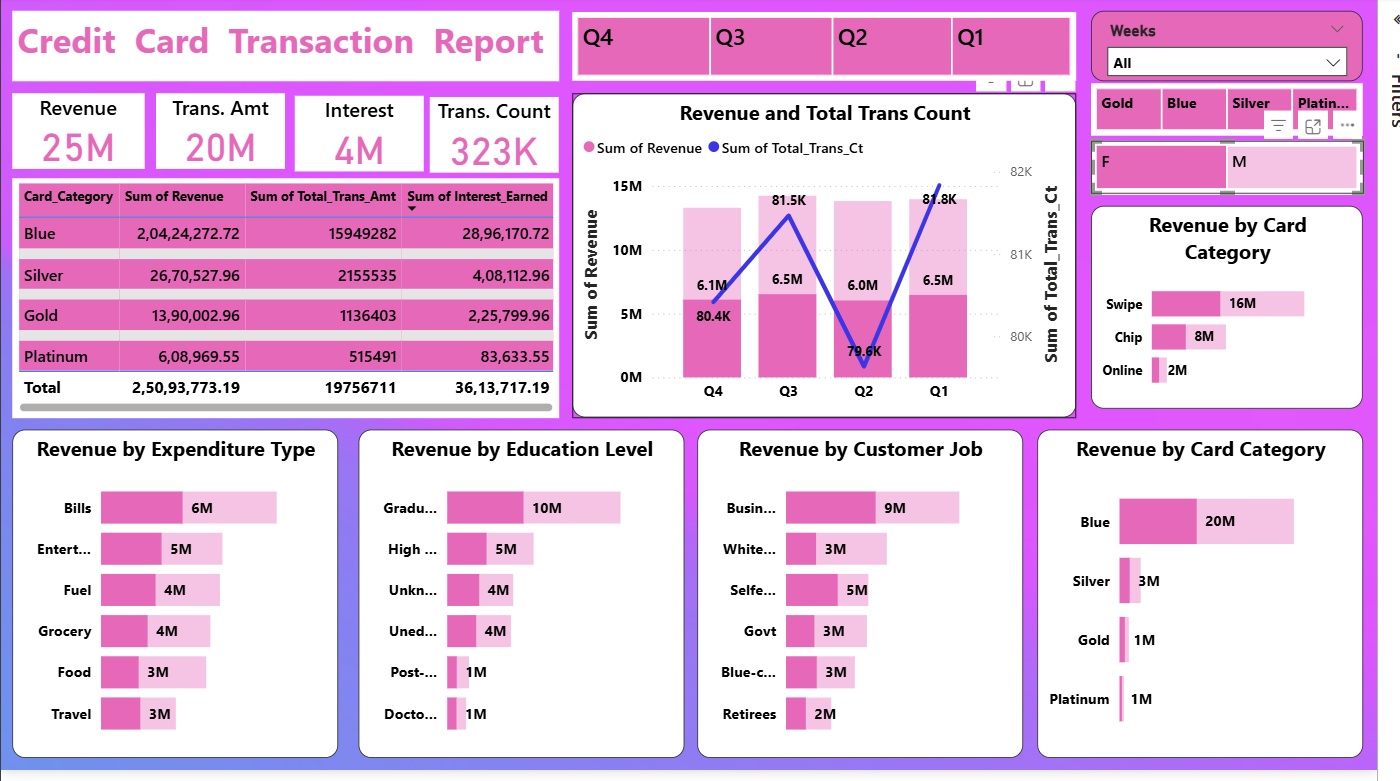

Layout of this report page (visuals, bound fields, positions):
{"tool":"powerbi","page":{"name":"Page 2","canvas":[1280,720],"ordinal":1},"visuals":[{"type":"textbox","box":[10,12.9,508.6,65.7],"z":0},{"type":"lineStackedColumnComboChart","title":"Revenue and Total Trans  Count","fields":{"Category":["ccdb cc_detail.Qtr"],"Y":["Sum(ccdb cc_detail.Revenue)"],"Y2":["Sum(ccdb cc_detail.Total_Trans_Ct)"]},"box":[531.4,90,468.6,301.4],"z":1000},{"type":"barChart","title":" Revenue by Expenditure Type","fields":{"Y":["Sum(ccdb cc_detail.Revenue)"],"Category":["ccdb cc_detail.Exp_Type"]},"box":[10,402.9,303,305.7],"z":2000},{"type":"barChart","title":" Revenue by Education Level","fields":{"Y":["Sum(ccdb cc_detail.Revenue)"],"Category":["ccdb cust_detail.Education_Level"]},"box":[332.9,402.9,303,305.7],"z":3000},{"type":"barChart","title":" Revenue by Customer Job","fields":{"Y":["Sum(ccdb cc_detail.Revenue)"],"Category":["ccdb cust_detail.Customer_Job"]},"box":[647.1,402.9,302.9,305.7],"z":4000},{"type":"barChart","title":" Revenue by Card Category","fields":{"Y":["Sum(ccdb cc_detail.Revenue)"],"Category":["ccdb cc_detail.Card_Category"]},"box":[964.3,402.9,302.9,305.7],"z":5000},{"type":"barChart","title":" Revenue by Card Category","fields":{"Y":["Sum(ccdb cc_detail.Revenue)"],"Category":["ccdb cc_detail.Use_Chip"]},"box":[1014.3,194.3,252.9,188.6],"z":6000},{"type":"tableEx","fields":{"Values":["ccdb cc_detail.Card_Category","Sum(ccdb cc_detail.Revenue)","Sum(ccdb cc_detail.Total_Trans_Amt)","Sum(ccdb cc_detail.Interest_Earned)"]},"box":[10,168.6,508.6,222.9],"z":7000},{"type":"card","title":"Interest ","fields":{"Values":["Sum(ccdb cc_detail.Interest_Earned)"]},"box":[272.9,91.4,120,70],"z":8000},{"type":"card","title":"Revenue","fields":{"Values":["Sum(ccdb cc_detail.Revenue)"]},"box":[10,90,122.9,70],"z":9000},{"type":"card","title":"Trans. Amt","fields":{"Values":["Sum(ccdb cc_detail.Total_Trans_Amt)"]},"box":[144.3,90,120,70],"z":10000},{"type":"card","title":"Trans. Count","fields":{"Values":["Sum(ccdb cc_detail.Total_Trans_Ct)"]},"box":[398.6,92.9,120,70],"z":11000},{"type":"slicer","fields":{"Values":["ccdb cc_detail.Week_Start_Date"]},"box":[1014.3,12.9,252.9,65.7],"z":12000},{"type":"treemap","fields":{"Group":["ccdb cc_detail.Qtr"],"Values":["Avg(ccdb cc_detail.Client_Num)"]},"box":[531.4,14.3,468.6,64.3],"z":13000},{"type":"treemap","fields":{"Group":["ccdb cust_detail.Gender"],"Values":["Avg(ccdb cc_detail.Client_Num)"]},"box":[1014.3,134.3,252.9,50],"z":14000},{"type":"treemap","fields":{"Group":["ccdb cc_detail.Card_Category"],"Values":["Avg(ccdb cc_detail.Client_Num)"]},"box":[1014.3,80,252.9,48.6],"z":15000}]}

Visuals, with their boxes in screenshot pixels (x1, y1, x2, y2), scaled from the page's 1280x720 canvas onto the 1400x781 screenshot:
textbox: region(11, 14, 567, 85)
"Revenue and Total Trans  Count" lineStackedColumnComboChart: region(581, 98, 1094, 425)
" Revenue by Expenditure Type" barChart: region(11, 437, 342, 769)
" Revenue by Education Level" barChart: region(364, 437, 696, 769)
" Revenue by Customer Job" barChart: region(708, 437, 1039, 769)
" Revenue by Card Category" barChart: region(1055, 437, 1386, 769)
" Revenue by Card Category" barChart: region(1109, 211, 1386, 415)
tableEx - ccdb cc_detail.Card_Category x Sum(ccdb cc_detail.Revenue): region(11, 183, 567, 425)
"Interest " card: region(298, 99, 430, 175)
"Revenue" card: region(11, 98, 145, 174)
"Trans. Amt" card: region(158, 98, 289, 174)
"Trans. Count" card: region(436, 101, 567, 177)
slicer - ccdb cc_detail.Week_Start_Date: region(1109, 14, 1386, 85)
treemap - ccdb cc_detail.Qtr x Avg(ccdb cc_detail.Client_Num): region(581, 16, 1094, 85)
treemap - ccdb cust_detail.Gender x Avg(ccdb cc_detail.Client_Num): region(1109, 146, 1386, 200)
treemap - ccdb cc_detail.Card_Category x Avg(ccdb cc_detail.Client_Num): region(1109, 87, 1386, 139)
